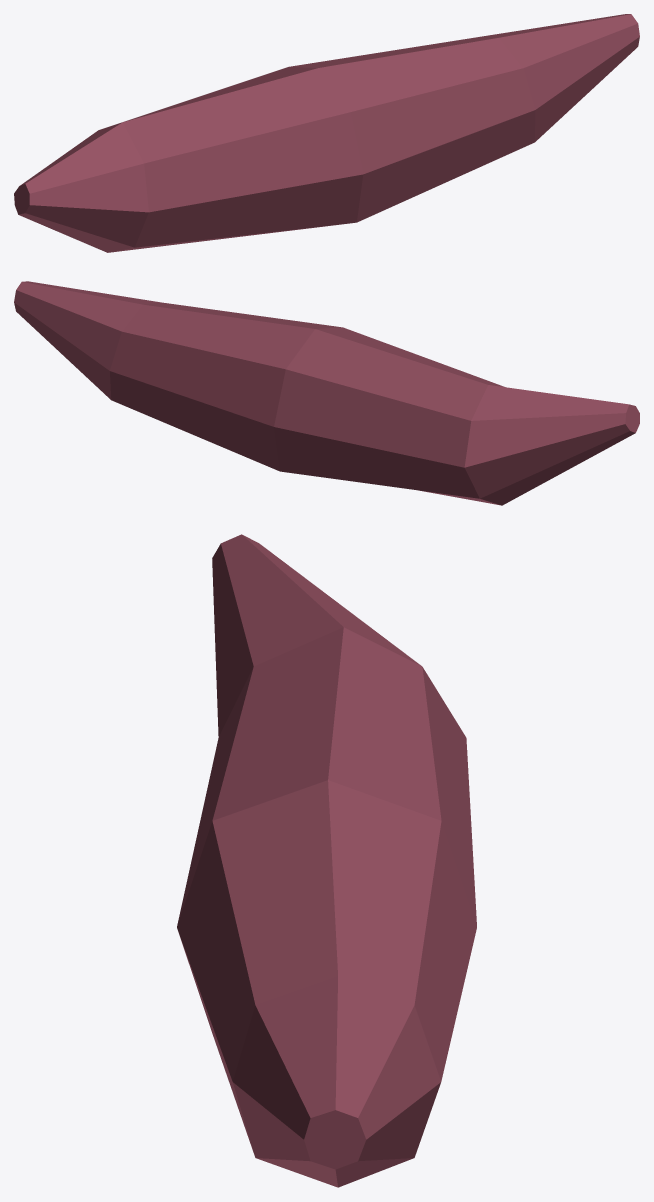
The model's file is sweetPotato01.fbx.
The picture shows the model from 3 angles, top to bottom: view 1: azimuth 30°, elevation 25°; view 2: azimuth 150°, elevation 25°; view 3: azimuth 270°, elevation 25°; orthographic projection. The views are drawn at different scales.
Parts seen in each view (by area): view 1: sweetPotato01; view 2: sweetPotato01; view 3: sweetPotato01.
Part boxes in pixels (x1,y1,x2,y2): sweetPotato01: [14, 14, 639, 252]; sweetPotato01: [14, 281, 639, 505]; sweetPotato01: [177, 534, 476, 1187].
Bounding box in the file's own units: 24.37 × 5.65 × 5.36.
Materials: 1 (1 with a texture image).
